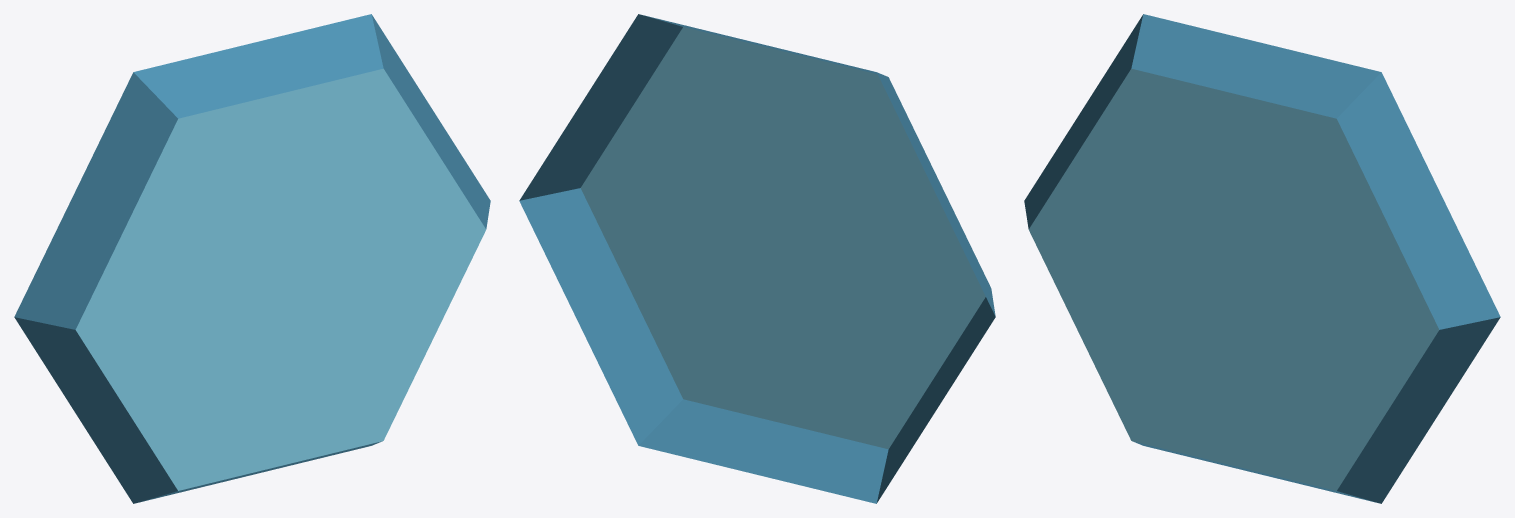
File: sigil_weak.obj
The picture shows the model from 3 angles, left to right: view 1: azimuth 30°, elevation 25°; view 2: azimuth 150°, elevation 25°; view 3: azimuth 330°, elevation 25°; orthographic projection.
Visible parts, largest first — view 1: sigil_weak; view 2: sigil_weak; view 3: sigil_weak.
Part boxes in pixels (bbox=[...]): sigil_weak: bbox=[14, 14, 490, 503]; sigil_weak: bbox=[519, 14, 995, 503]; sigil_weak: bbox=[1024, 14, 1500, 503].
Bounding box in the file's own units: 1.16 × 1 × 0.12.
